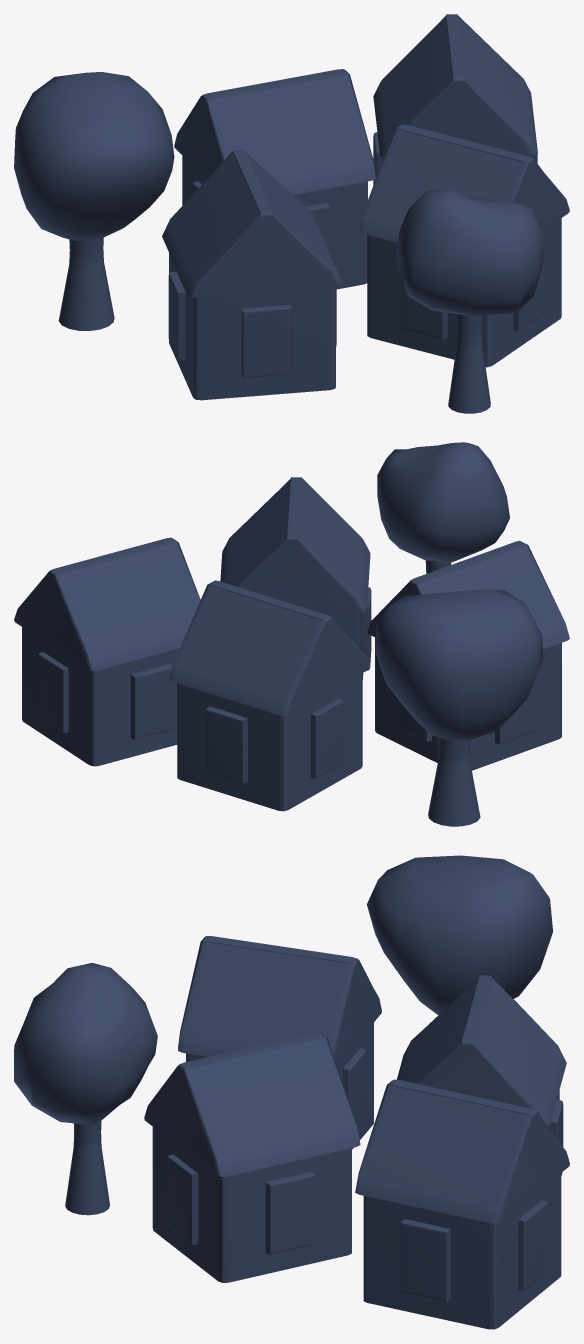
The model's file is City4.fbx.
3 views of the same model, one above another, from view 1: azimuth 30°, elevation 25°; view 2: azimuth 150°, elevation 25°; view 3: azimuth 270°, elevation 25° (orthographic). The views are drawn at different scales.
Parts seen in each view (by area): view 1: City4; view 2: City4; view 3: City4.
Part boxes in pixels (left/top/right/bottom): City4: left=14, top=14, right=569, bottom=413; City4: left=14, top=442, right=569, bottom=826; City4: left=14, top=855, right=569, bottom=1329.
Bounding box in the file's own units: 3.37 × 1.4 × 2.95.
